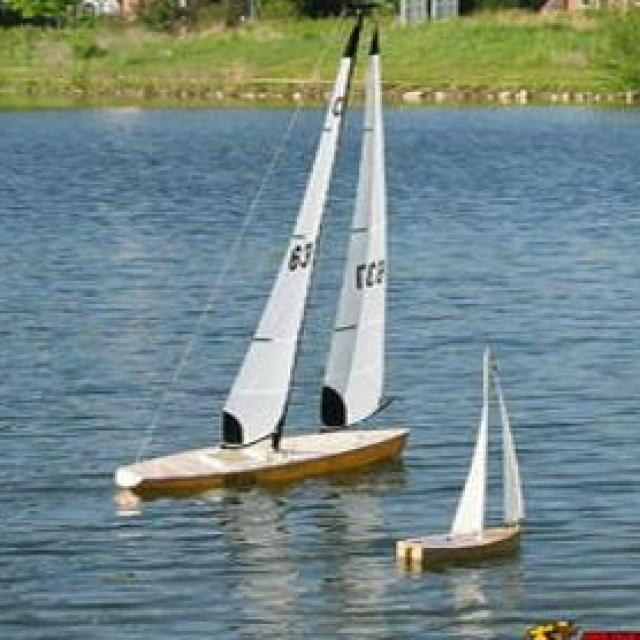sailboat: (120, 11, 410, 491), (401, 340, 529, 568)
